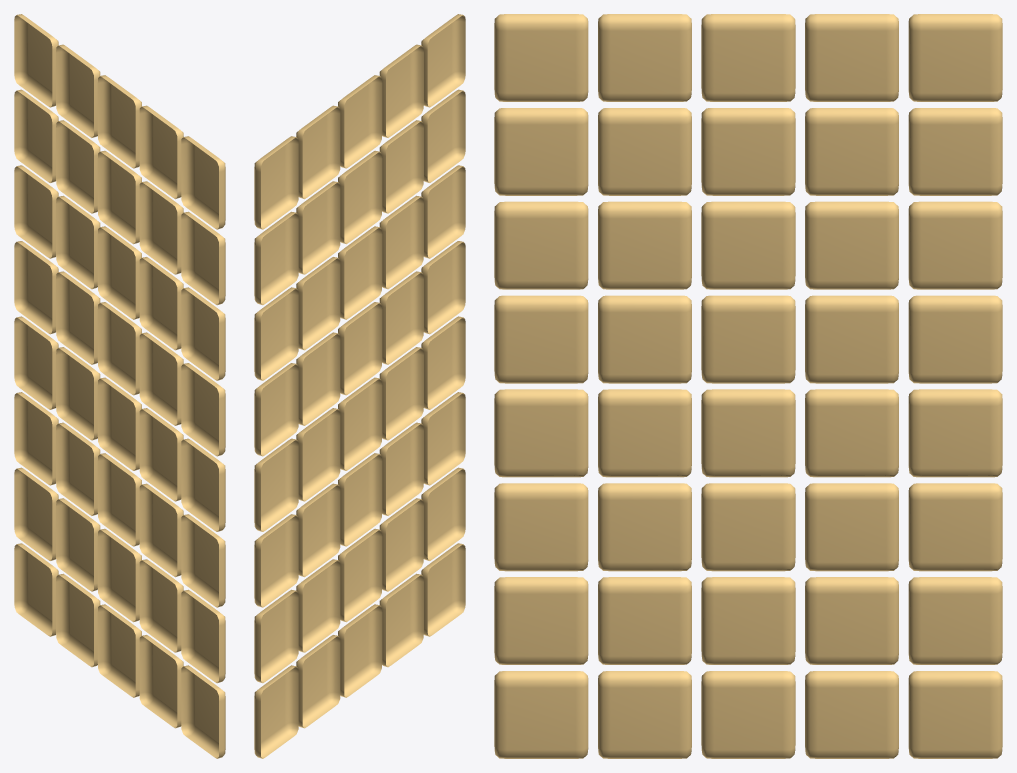
File: StandAptWallLight_mesh.fbx
The picture shows the model from 3 angles, left to right: view 1: azimuth 30°, elevation 25°; view 2: azimuth 150°, elevation 25°; view 3: azimuth 270°, elevation 25°; orthographic projection. The views are drawn at different scales.
Parts seen in each view (by area): view 1: StandAptWallLight_mesh; view 2: StandAptWallLight_mesh; view 3: StandAptWallLight_mesh.
Boxes of the visible parts, box(x1,y1,x2,y2) form: StandAptWallLight_mesh: box(14, 14, 225, 758); StandAptWallLight_mesh: box(254, 14, 465, 758); StandAptWallLight_mesh: box(494, 14, 1002, 758).
Size of the model in its own units: 1.29 by 82.37 by 51.13.
